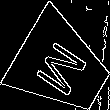M_SE: (30, 34, 93, 100)
